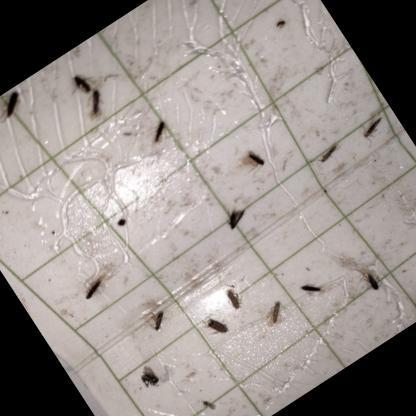prays_oleae: (65, 253, 127, 314), (210, 186, 262, 244), (132, 106, 184, 158), (191, 298, 236, 349), (268, 1, 313, 49), (126, 352, 171, 400), (135, 297, 179, 344), (350, 104, 394, 149), (350, 260, 394, 305), (256, 292, 299, 336), (237, 138, 278, 181), (310, 134, 352, 174), (293, 269, 332, 312), (78, 81, 118, 120), (219, 278, 256, 320), (0, 86, 36, 127), (64, 62, 100, 102), (399, 173, 416, 235)
